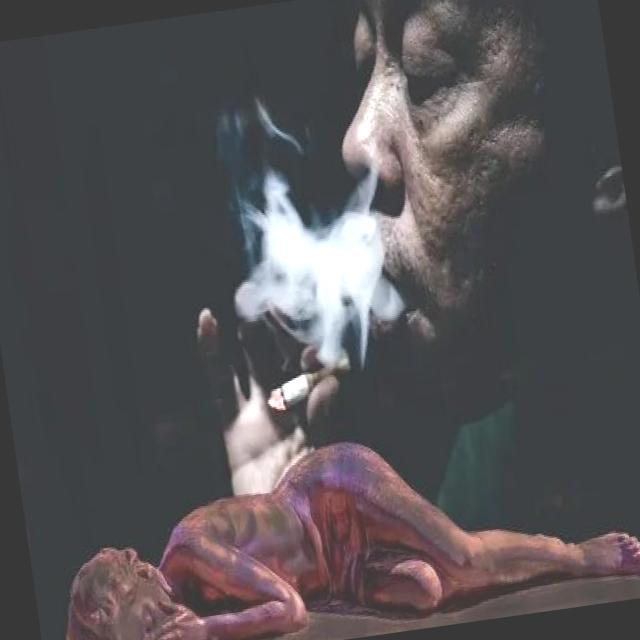smoke: (260, 338, 362, 416)
